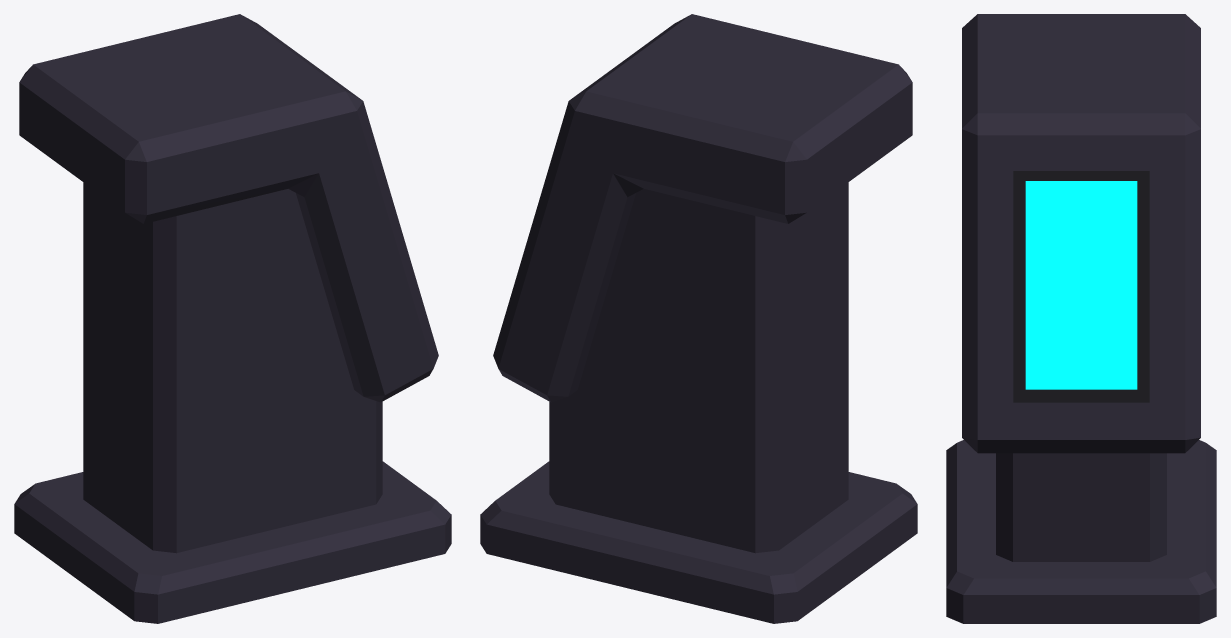
The model's file is SM_Terminal_Stand.fbx.
The picture shows the model from 3 angles, left to right: view 1: azimuth 30°, elevation 25°; view 2: azimuth 150°, elevation 25°; view 3: azimuth 270°, elevation 25°; orthographic projection.
Parts seen in each view (by area): view 1: SM_Terminal_Stand; view 2: SM_Terminal_Stand; view 3: SM_Terminal_Stand.
Part boxes in pixels (x1=…): SM_Terminal_Stand: x1=14, y1=14, x2=451, y2=623; SM_Terminal_Stand: x1=480, y1=14, x2=917, y2=623; SM_Terminal_Stand: x1=946, y1=14, x2=1216, y2=623.
Bounding box in the file's own units: 56.89 × 80.24 × 42.38.
